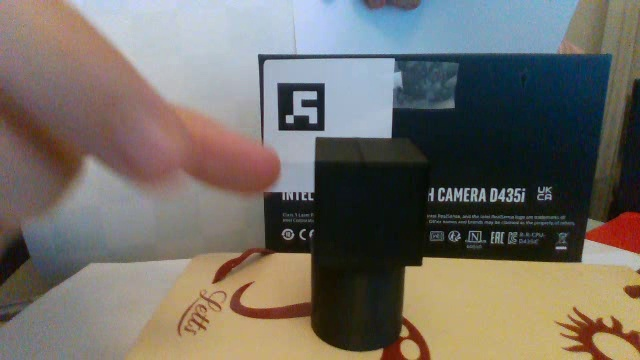cube: (309, 133, 429, 270)
cylindre: (302, 238, 415, 355)
